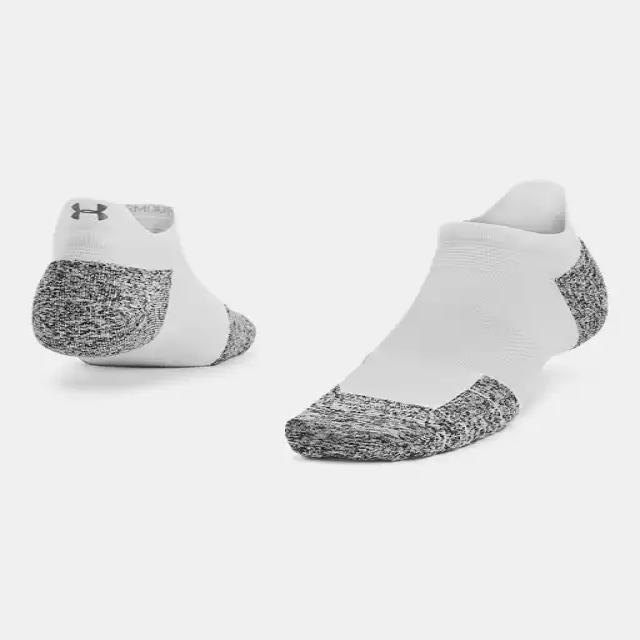sock: (284, 178, 608, 462), (30, 197, 256, 368)
